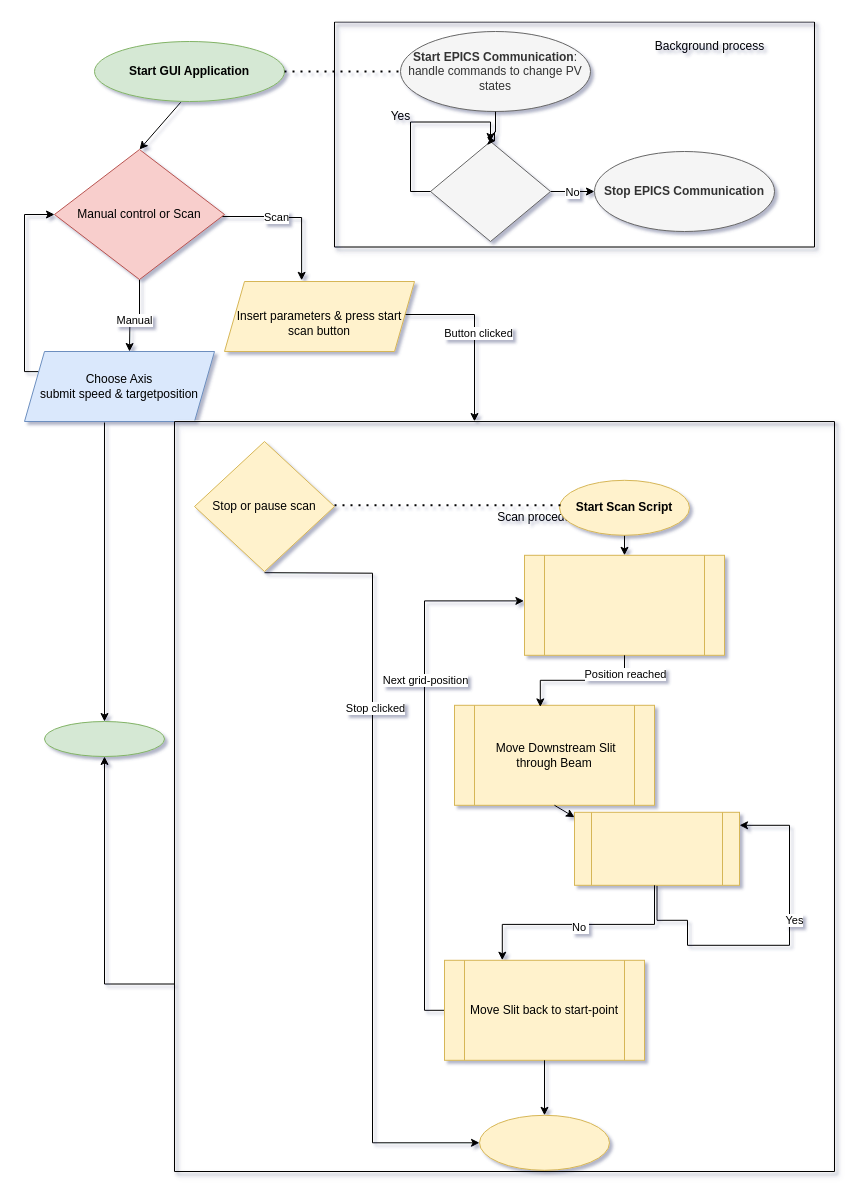
Some shapes in this 864 by 1202 pixel diagram are drawn without their labels. The centre of each missing label's shape, as x and y in pixels:
End Scan Script: [544,1142]
GUI still running?: [490,191]
Move collimator to grid-position: [624,604]
Quit/Close: [104,738]
Readout & save data Slit still moving?: [657,848]
